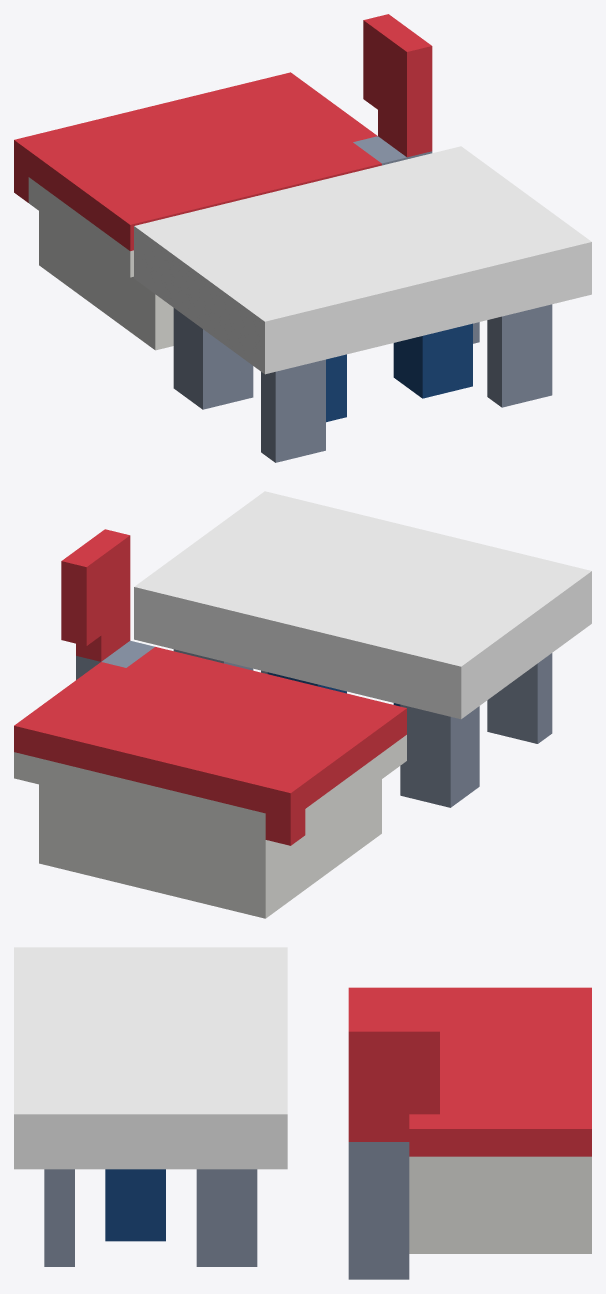
The model's file is petrol_station.glb.
The picture shows the model from 3 angles, top to bottom: view 1: azimuth 30°, elevation 25°; view 2: azimuth 150°, elevation 25°; view 3: azimuth 270°, elevation 25°; orthographic projection. The views are drawn at different scales.
Visible parts, largest first — view 1: petrol_station_white, petrol_station_red, petrol_station_metal, petrol_station_offwhite, petrol_station_garda_blue; view 2: petrol_station_white, petrol_station_red, petrol_station_offwhite, petrol_station_metal; view 3: petrol_station_white, petrol_station_red, petrol_station_offwhite, petrol_station_metal, petrol_station_garda_blue.
Boxes of the visible parts, bbox=[...] form: petrol_station_white: bbox=[134, 146, 591, 374]; petrol_station_red: bbox=[14, 14, 432, 251]; petrol_station_metal: bbox=[173, 136, 552, 462]; petrol_station_offwhite: bbox=[28, 177, 173, 350]; petrol_station_garda_blue: bbox=[326, 323, 472, 422]; petrol_station_white: bbox=[134, 491, 591, 719]; petrol_station_red: bbox=[14, 529, 406, 845]; petrol_station_offwhite: bbox=[14, 735, 406, 918]; petrol_station_metal: bbox=[76, 640, 552, 807]; petrol_station_white: bbox=[14, 947, 287, 1169]; petrol_station_red: bbox=[348, 987, 591, 1156]; petrol_station_offwhite: bbox=[409, 1156, 591, 1253]; petrol_station_metal: bbox=[44, 1142, 409, 1279]; petrol_station_garda_blue: bbox=[105, 1169, 165, 1241].
Bounding box in the file's own units: 15.02 × 10.4 × 21.96.
